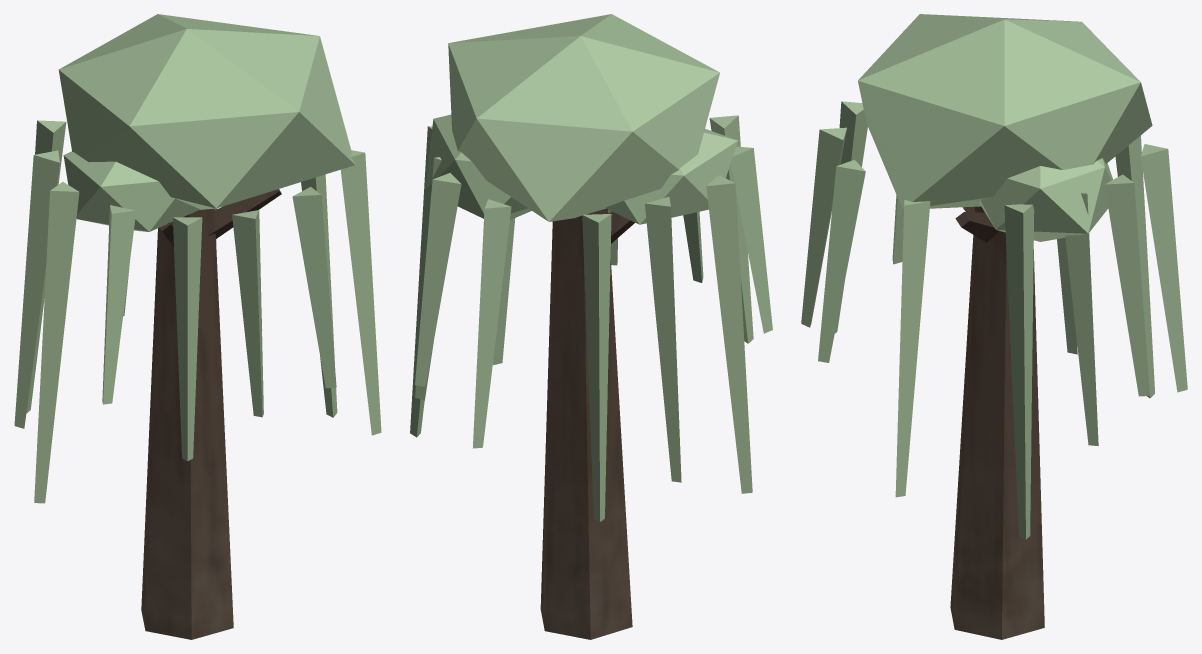
Rendered from arv_salgueiro_3.glb.
The picture shows the model from 3 angles, left to right: view 1: azimuth 30°, elevation 25°; view 2: azimuth 150°, elevation 25°; view 3: azimuth 270°, elevation 25°; orthographic projection. The views are drawn at different scales.
Parts seen in each view (by area): view 1: arv_salgueiro_3; view 2: arv_salgueiro_3; view 3: arv_salgueiro_3.
Part boxes in pixels (box(x1,y1,x2,y2)): arv_salgueiro_3: box(14, 14, 381, 639); arv_salgueiro_3: box(410, 14, 772, 639); arv_salgueiro_3: box(801, 14, 1187, 639).
Bounding box in the file's own units: 0.8771 × 1.52 × 0.888.
2 materials, 1 textured.
